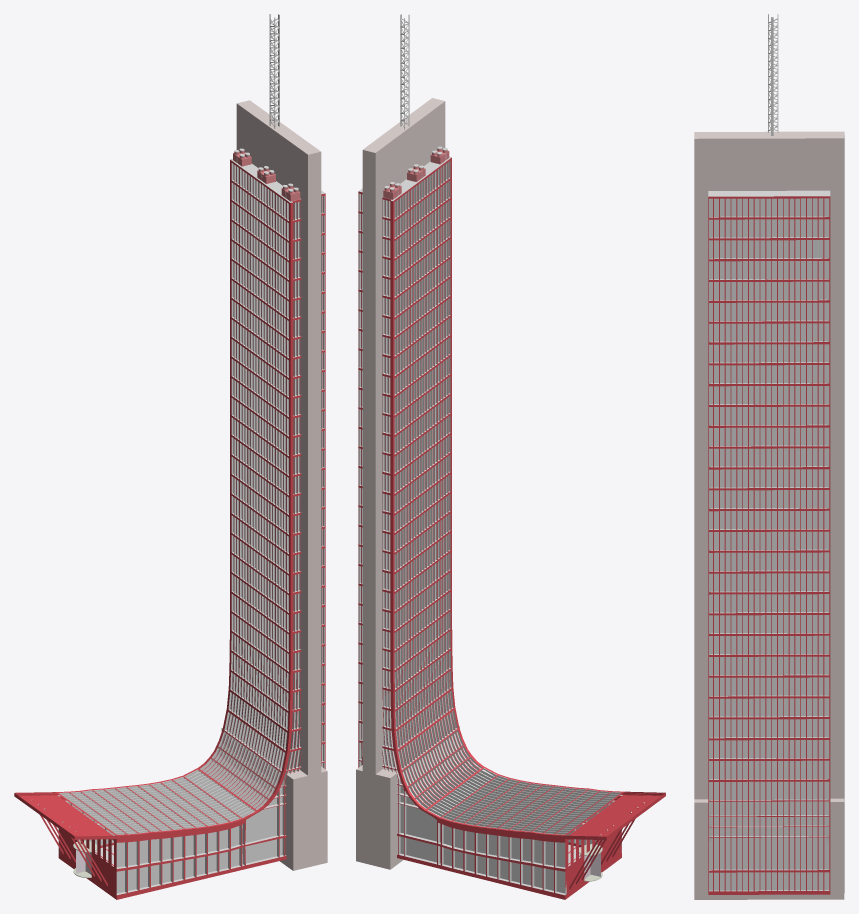
File: H_Building4.fbx
The picture shows the model from 3 angles, left to right: view 1: azimuth 30°, elevation 25°; view 2: azimuth 150°, elevation 25°; view 3: azimuth 270°, elevation 25°; orthographic projection. The views are drawn at different scales.
Visible parts, largest first — view 1: skyscraper5; view 2: skyscraper5; view 3: skyscraper5.
Boxes of the visible parts, left/top/right/bottom form: skyscraper5: left=14, top=14, right=327, bottom=899; skyscraper5: left=356, top=14, right=665, bottom=899; skyscraper5: left=694, top=14, right=844, bottom=899.
Bounding box in the file's own units: 2102 × 6583 × 1024.
